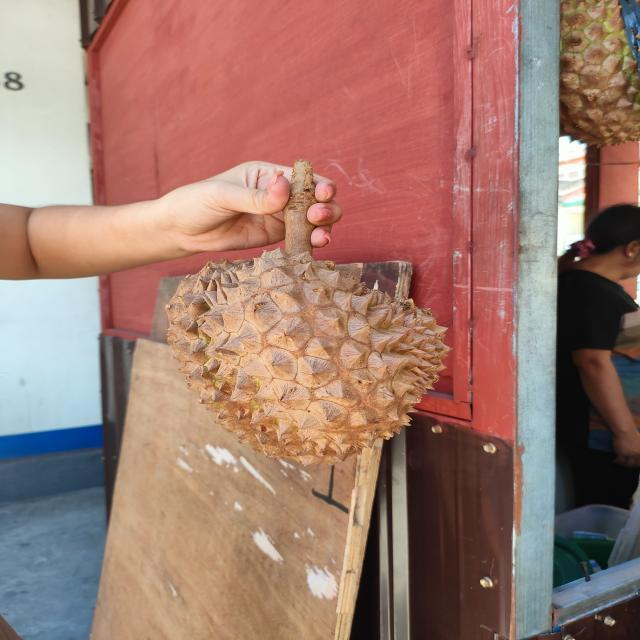mature: (165, 247, 453, 465)
